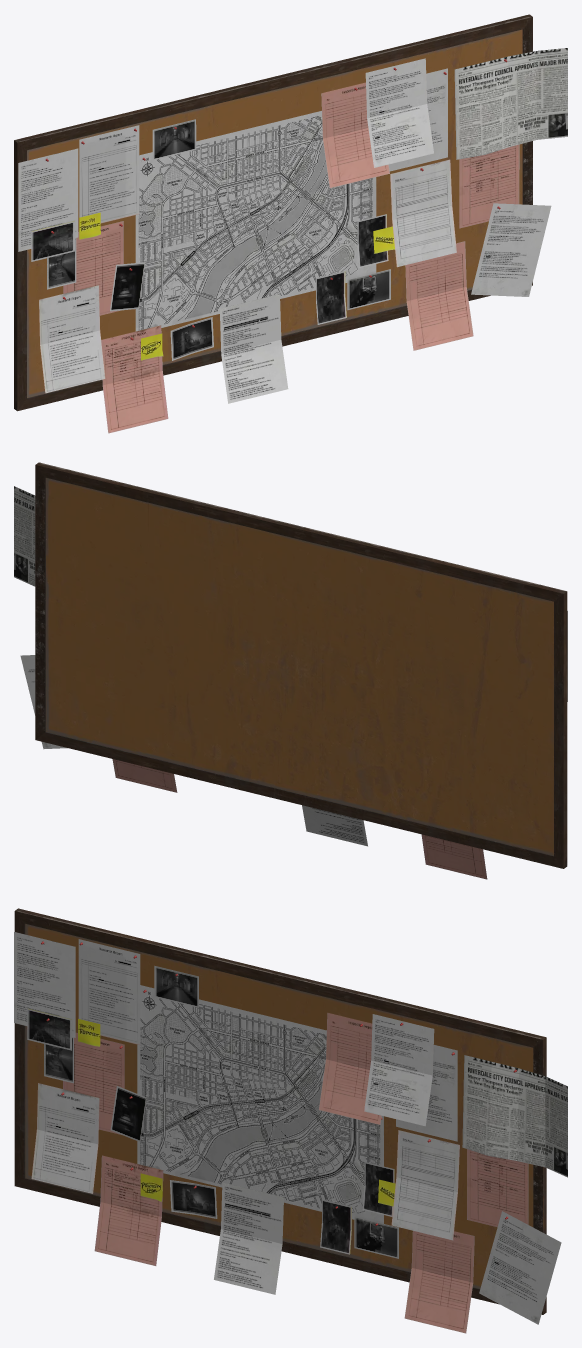
Rendered from corkboard.glb.
3 views of the same model, one above another, from view 1: azimuth 30°, elevation 25°; view 2: azimuth 150°, elevation 25°; view 3: azimuth 330°, elevation 25° (orthographic). The views are drawn at different scales.
Parts seen in each view (by area): view 1: CorkBoard_Paper_A_M_Bunker_CorkBoard_A_0, CorkBoard_map_A_M_Bunker_CorkBoard_A_0, CorkBoard_Base_A_M_Bunker_CorkBoard_A_0, CorkBoard_Photo_A_M_Bunker_CorkBoard_A_0, CorkBoard_StickyNote_A_M_Bunker_CorkBoard_A_0; view 2: CorkBoard_Base_A_M_Bunker_CorkBoard_A_0, CorkBoard_Paper_A_M_Bunker_CorkBoard_A_0; view 3: CorkBoard_Paper_A_M_Bunker_CorkBoard_A_0, CorkBoard_map_A_M_Bunker_CorkBoard_A_0, CorkBoard_Base_A_M_Bunker_CorkBoard_A_0, CorkBoard_Photo_A_M_Bunker_CorkBoard_A_0, CorkBoard_StickyNote_A_M_Bunker_CorkBoard_A_0.
Boxes of the visible parts, x1,y1,x2,y2 form: CorkBoard_Paper_A_M_Bunker_CorkBoard_A_0: [18, 48, 567, 433]; CorkBoard_map_A_M_Bunker_CorkBoard_A_0: [135, 111, 376, 331]; CorkBoard_Base_A_M_Bunker_CorkBoard_A_0: [14, 14, 532, 411]; CorkBoard_Photo_A_M_Bunker_CorkBoard_A_0: [31, 119, 390, 360]; CorkBoard_StickyNote_A_M_Bunker_CorkBoard_A_0: [79, 212, 394, 360]; CorkBoard_Base_A_M_Bunker_CorkBoard_A_0: [35, 462, 567, 868]; CorkBoard_Paper_A_M_Bunker_CorkBoard_A_0: [14, 486, 567, 879]; CorkBoard_Paper_A_M_Bunker_CorkBoard_A_0: [14, 932, 567, 1333]; CorkBoard_map_A_M_Bunker_CorkBoard_A_0: [137, 985, 383, 1223]; CorkBoard_Base_A_M_Bunker_CorkBoard_A_0: [14, 908, 546, 1314]; CorkBoard_Photo_A_M_Bunker_CorkBoard_A_0: [27, 965, 398, 1258]; CorkBoard_StickyNote_A_M_Bunker_CorkBoard_A_0: [78, 1019, 395, 1206].
Size of the model in its own units: 1.9 by 1.02 by 0.0704.
1 material, 1 textured.
